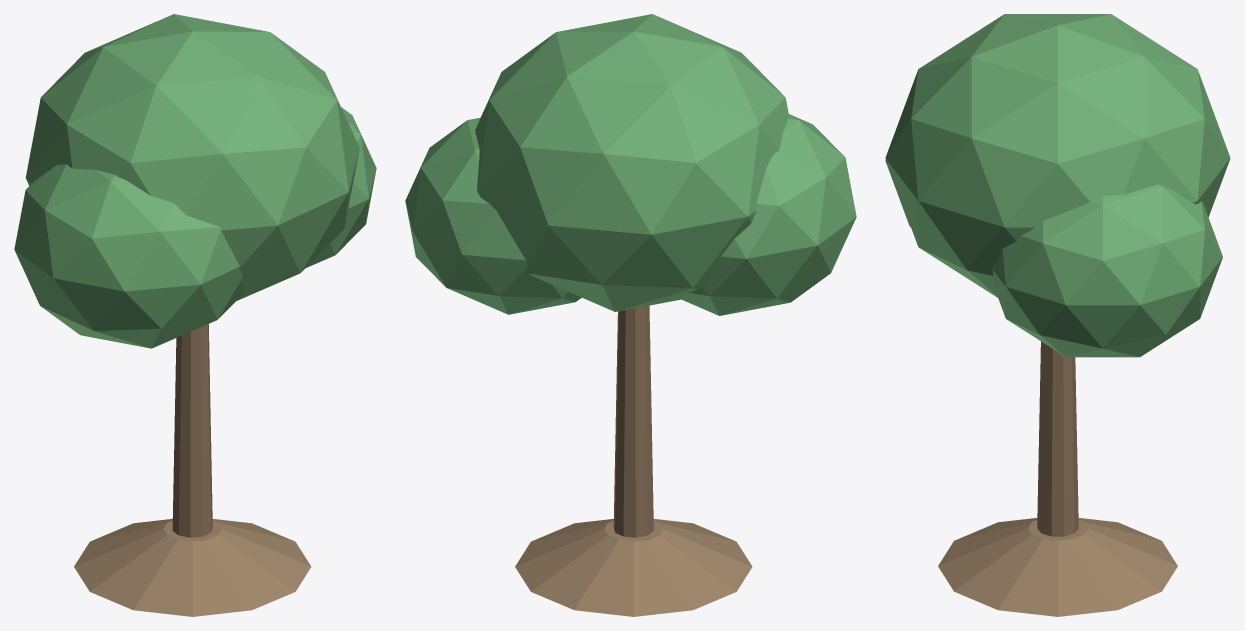
The model's file is bt-tree-street.glb.
3 views of the same model, side by side, from view 1: azimuth 30°, elevation 25°; view 2: azimuth 150°, elevation 25°; view 3: azimuth 270°, elevation 25° (orthographic).
Parts seen in each view (by area): view 1: canopy_0, canopy_2, skirt_dirt, trunk, canopy_1; view 2: canopy_0, canopy_2, skirt_dirt, canopy_1, trunk; view 3: canopy_0, canopy_1, skirt_dirt, trunk.
Part boxes in pixels (<box>): canopy_0: <box>25,14,359,300</box>; canopy_2: <box>14,164,244,348</box>; skirt_dirt: <box>74,519,311,616</box>; trunk: <box>172,324,212,537</box>; canopy_1: <box>306,107,376,267</box>; canopy_0: <box>475,14,789,311</box>; canopy_2: <box>679,114,856,315</box>; skirt_dirt: <box>515,519,752,616</box>; canopy_1: <box>405,117,581,314</box>; trunk: <box>613,305,653,537</box>; canopy_0: <box>885,14,1230,297</box>; canopy_1: <box>992,184,1222,357</box>; skirt_dirt: <box>938,518,1177,616</box>; trunk: <box>1037,341,1078,536</box>.
Size of the model in its own units: 2.87 by 3.98 by 2.3.
